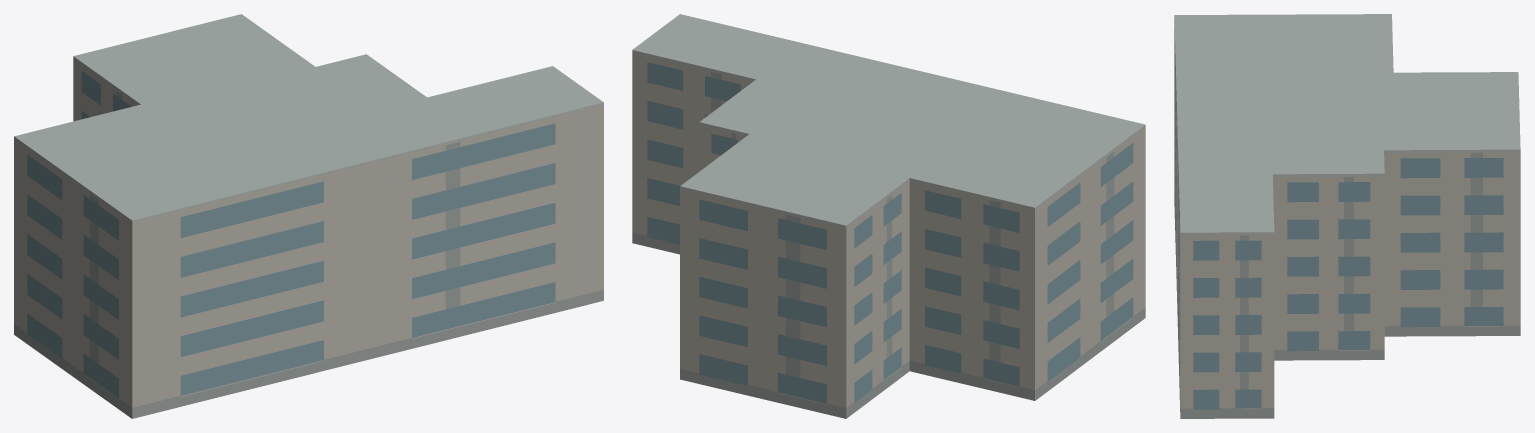
The model's file is residential-526ceffb-0a12-4b99-a5db-84123b345991.glb.
The picture shows the model from 3 angles, left to right: view 1: azimuth 30°, elevation 25°; view 2: azimuth 150°, elevation 25°; view 3: azimuth 270°, elevation 25°; orthographic projection. The views are drawn at different scales.
Visible parts, largest first — view 1: residential-526ceffb-0a12-4b99-a5db-84123b345991.tmp; view 2: residential-526ceffb-0a12-4b99-a5db-84123b345991.tmp; view 3: residential-526ceffb-0a12-4b99-a5db-84123b345991.tmp.
Part boxes in pixels (x1,y1,x2,y2): residential-526ceffb-0a12-4b99-a5db-84123b345991.tmp: [14, 14, 603, 418]; residential-526ceffb-0a12-4b99-a5db-84123b345991.tmp: [632, 14, 1145, 418]; residential-526ceffb-0a12-4b99-a5db-84123b345991.tmp: [1174, 14, 1520, 418].
Bounding box in the file's own units: 38.4 × 15.25 × 25.69.
